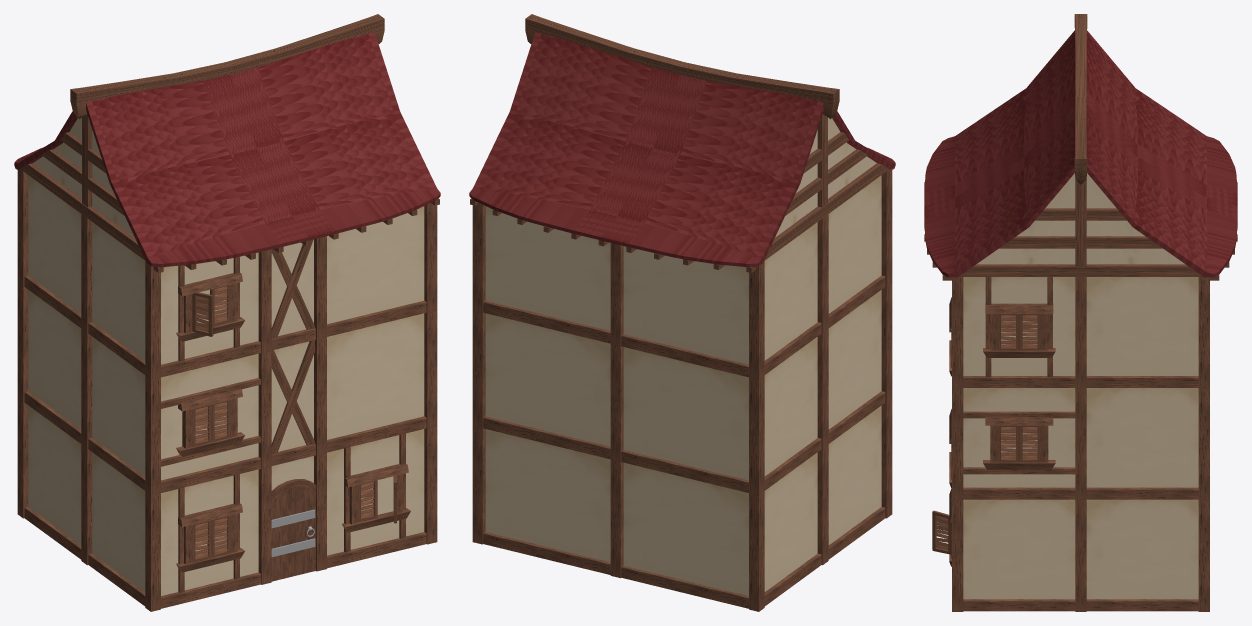
Rendered from House7_FBX.fbx.
3 views of the same model, side by side, from view 1: azimuth 30°, elevation 25°; view 2: azimuth 150°, elevation 25°; view 3: azimuth 270°, elevation 25° (orthographic). The views are drawn at different scales.
Visible parts, largest first — view 1: House7; view 2: House7; view 3: House7.
Part boxes in pixels (x1=…): House7: x1=14, y1=14, x2=440, y2=611; House7: x1=469, y1=14, x2=895, y2=611; House7: x1=924, y1=14, x2=1237, y2=611.
Size of the model in its own units: 1114 by 1640 by 1017.
